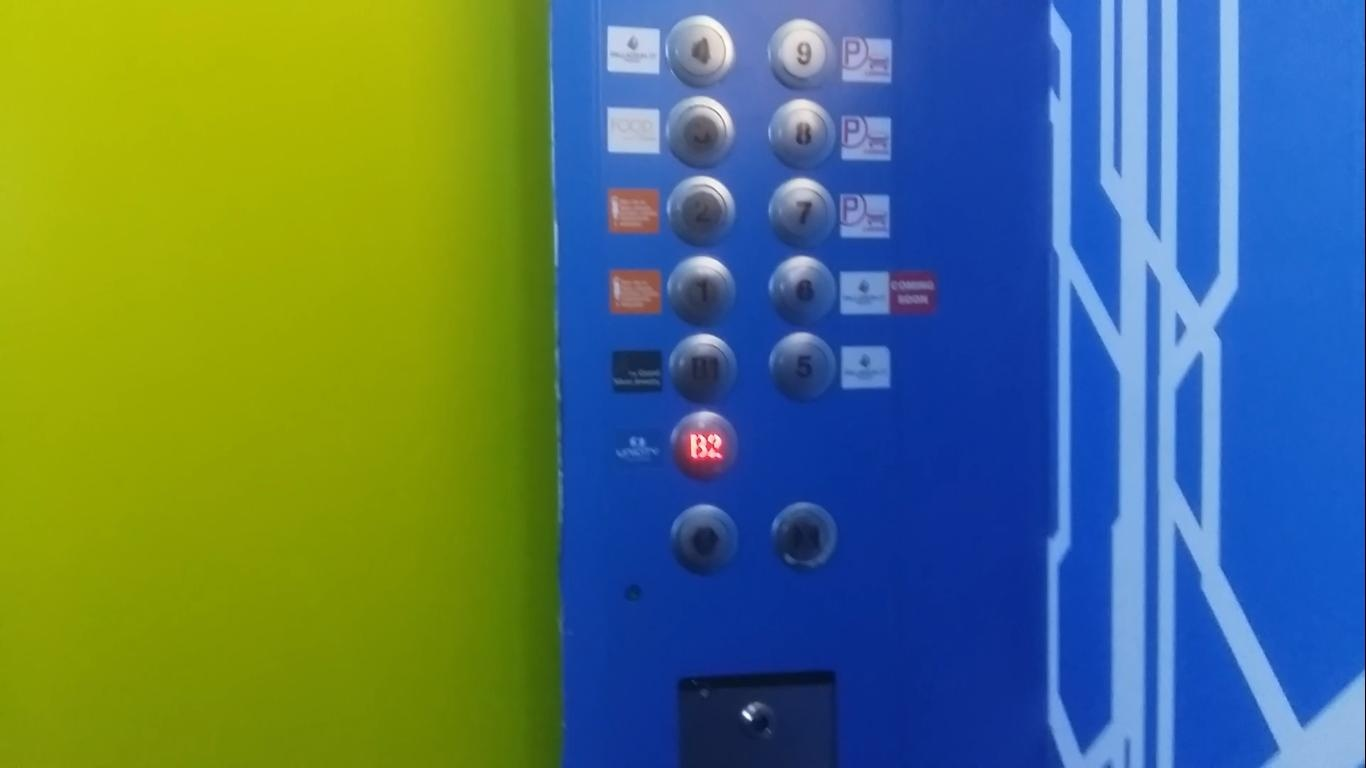1: (664, 255, 736, 325)
2: (664, 174, 737, 246)
4: (664, 14, 735, 88)
5: (767, 331, 838, 401)
6: (766, 256, 837, 327)
7: (767, 176, 838, 248)
8: (766, 94, 839, 169)
9: (766, 16, 835, 90)
B1: (667, 332, 740, 404)
B2: (669, 409, 738, 480)
blur: (664, 95, 736, 167)
close: (768, 500, 839, 572)
keyhole: (717, 685, 790, 744)
open: (669, 503, 743, 576)
